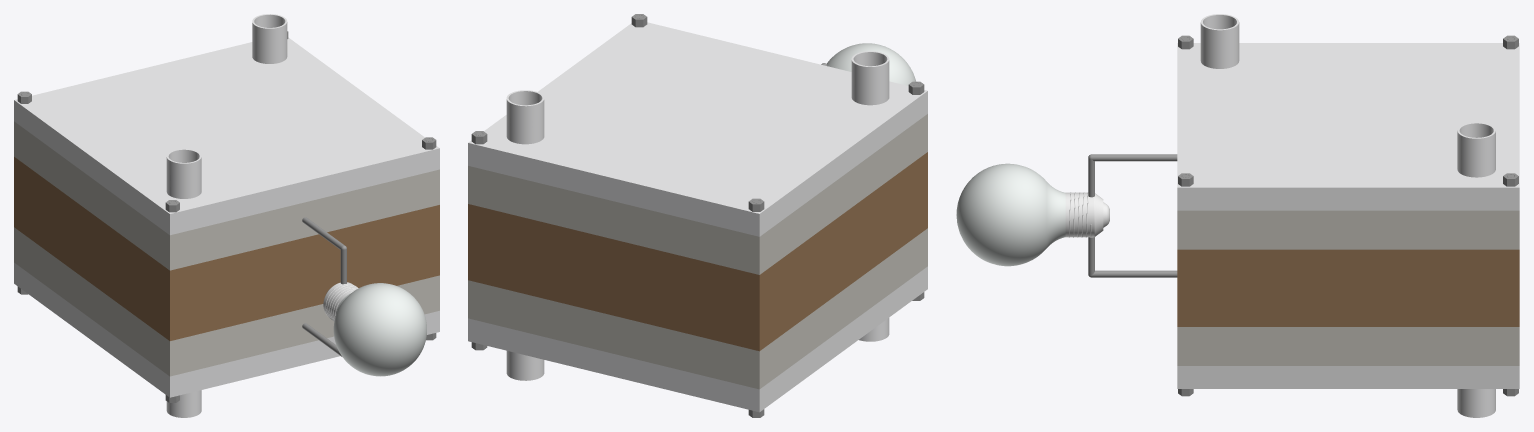
The model's file is Fuel_Cell.fbx.
3 views of the same model, side by side, from view 1: azimuth 30°, elevation 25°; view 2: azimuth 150°, elevation 25°; view 3: azimuth 270°, elevation 25° (orthographic). The views are drawn at different scales.
Parts seen in each view (by area): view 1: Plate_right, PEM, Catalyst_right, Catalyst_left, Plate_left, Body1 (×2), Wire_right; view 2: Plate_right, PEM, Catalyst_left, Catalyst_right, Plate_left, Body1; view 3: Plate_right, PEM, Catalyst_right, Catalyst_left, Body1 (×2), Plate_left, Wire_right, Wire_left.
Boxes of the visible parts, <box> form: Plate_right: <box>14,14,439,235</box>; PEM: <box>14,157,439,340</box>; Catalyst_right: <box>14,121,439,270</box>; Catalyst_left: <box>14,227,439,376</box>; Plate_left: <box>14,262,439,417</box>; Body1 (×2): <box>323,282,426,376</box>; Wire_right: <box>302,217,346,284</box>; Plate_right: <box>468,22,927,236</box>; PEM: <box>468,152,927,351</box>; Catalyst_left: <box>468,228,927,389</box>; Catalyst_right: <box>468,114,927,274</box>; Plate_left: <box>468,266,927,412</box>; Body1: <box>827,43,915,85</box>; Plate_right: <box>1177,14,1519,210</box>; PEM: <box>1177,249,1519,326</box>; Catalyst_right: <box>1177,210,1519,249</box>; Catalyst_left: <box>1177,327,1519,365</box>; Body1 (×2): <box>956,163,1109,266</box>; Plate_left: <box>1177,366,1519,417</box>; Wire_right: <box>1088,154,1177,197</box>; Wire_left: <box>1088,237,1177,277</box>.
Bounding box in the file's own units: 400 × 360 × 658.
